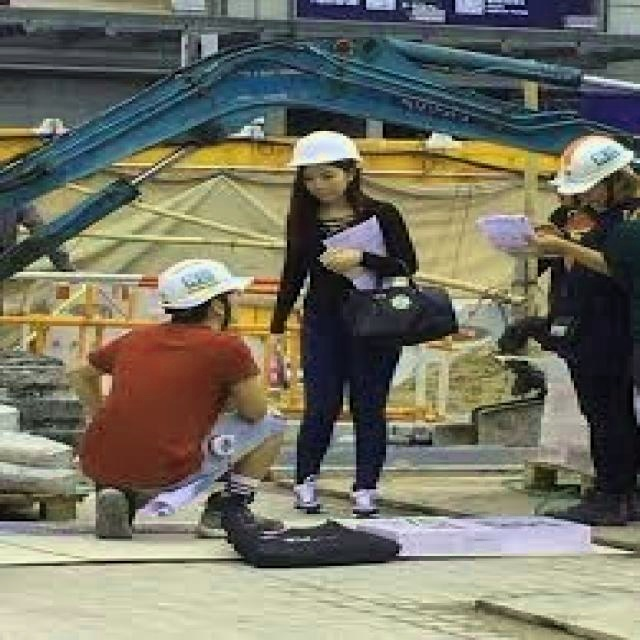Con_Casco: (158, 261, 253, 325), (291, 128, 364, 198)
